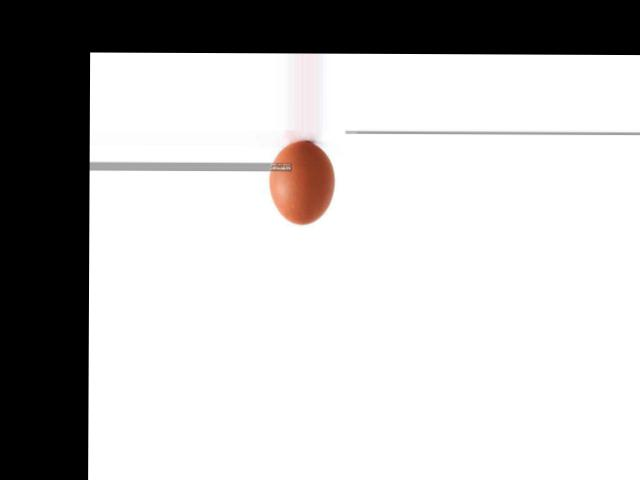egg: (268, 142, 334, 224)
